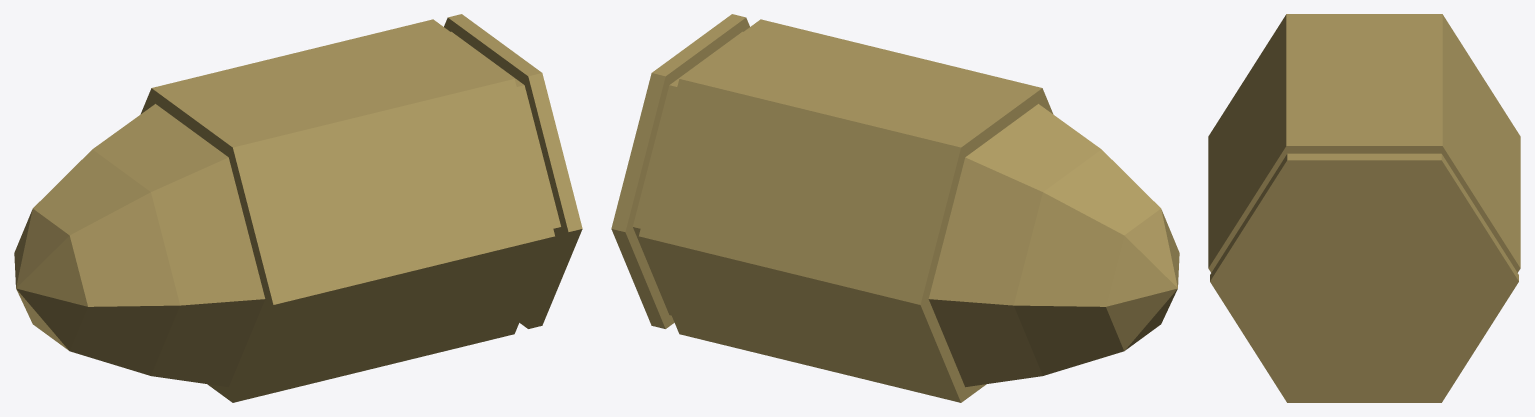
The model's file is bullet.fbx.
3 renders of one model, left to right at view 1: azimuth 30°, elevation 25°; view 2: azimuth 150°, elevation 25°; view 3: azimuth 270°, elevation 25°, orthographic. The views are drawn at different scales.
Visible parts, largest first — view 1: Cylinder; view 2: Cylinder; view 3: Cylinder.
Boxes of the visible parts, left/top/right/bottom form: Cylinder: left=14, top=14, right=582, bottom=402; Cylinder: left=611, top=14, right=1179, bottom=402; Cylinder: left=1208, top=14, right=1520, bottom=402.
Size of the model in its own units: 6.9 by 3.46 by 4.
